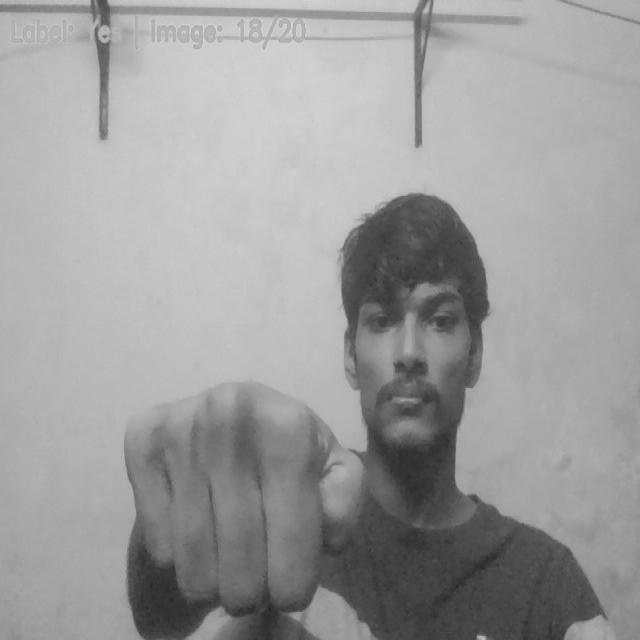Yes: (120, 380, 371, 624)
